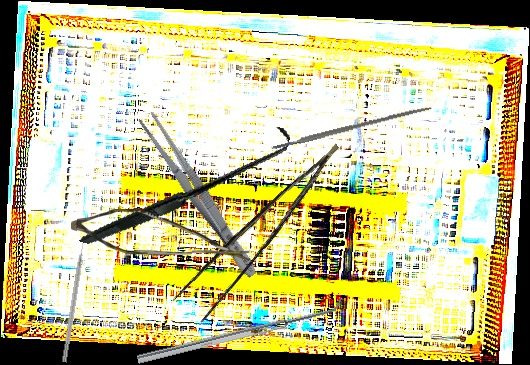Chopper: (61, 236, 94, 364)
Dressing Forceps: (135, 109, 263, 283)
Hook Surgical: (79, 84, 292, 288)
Micro Scissor: (70, 206, 256, 264)
Scalpel Handle: (269, 104, 433, 151)
Spatula Surgical: (134, 296, 345, 364)
Tissue Forceps: (167, 143, 365, 327)
